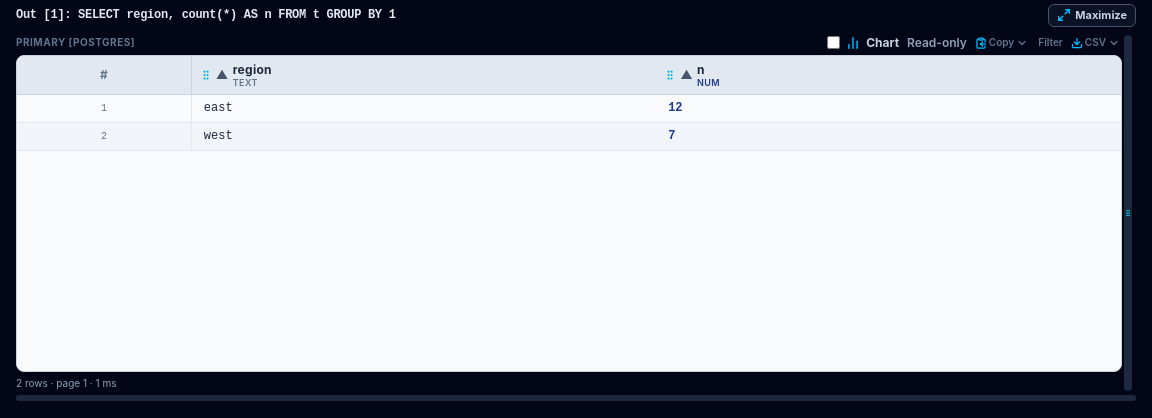
it: ResultsPanel — opt-in SVG chart › draws bars only after Chart is checked on a label + number grid
Click the checkbox with test id "sql-result-chart-toggle-0" at (834, 42), box [827,36,840,49]
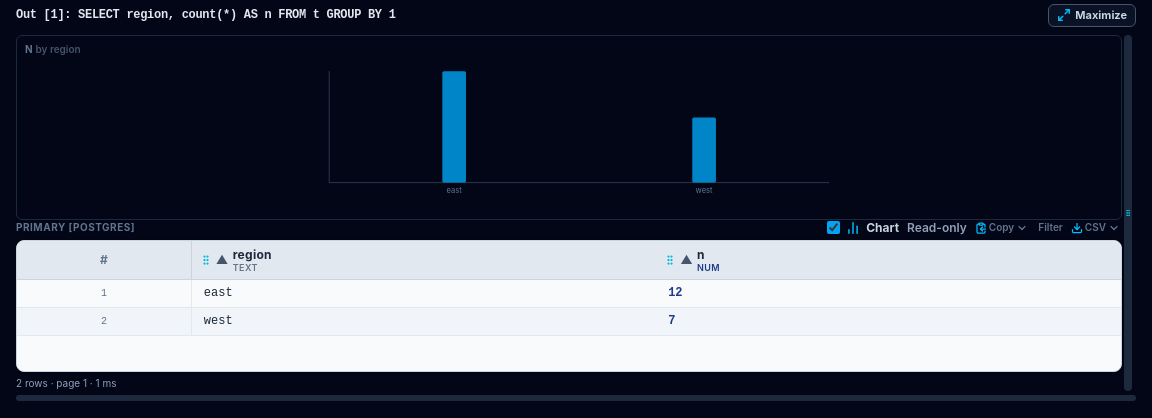
Expected: the element with test id "sql-result-chart-0-bar-0" is shown, [442,71,466,182]
Expected: the element with test id "sql-result-chart-0" is shown, [16,34,1122,220]
